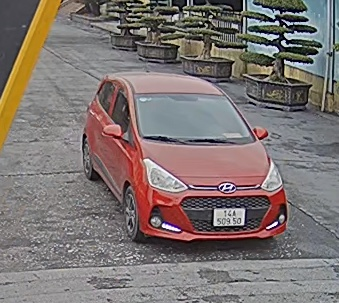vehicle plate: (209, 207, 247, 227)
